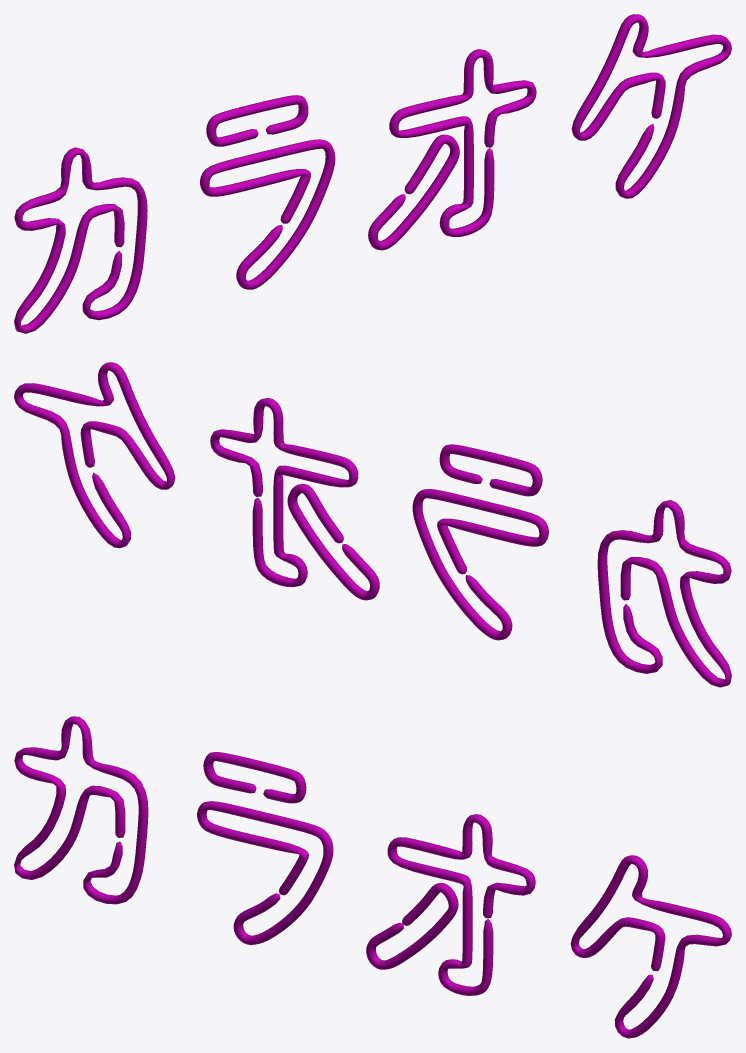
File: Karaoke Sign Pink.fbx
3 views of the same model, one above another, from view 1: azimuth 30°, elevation 25°; view 2: azimuth 150°, elevation 25°; view 3: azimuth 330°, elevation 25° (orthographic).
Parts seen in each view (by area): view 1: pCube7; view 2: pCube7; view 3: pCube7.
Part boxes in pixels (box(x1,y1,x2,y2)): pCube7: box(14, 14, 731, 333); pCube7: box(14, 362, 731, 687); pCube7: box(14, 716, 731, 1038).
Size of the model in its own units: 21.25 by 5.26 by 0.3853.
